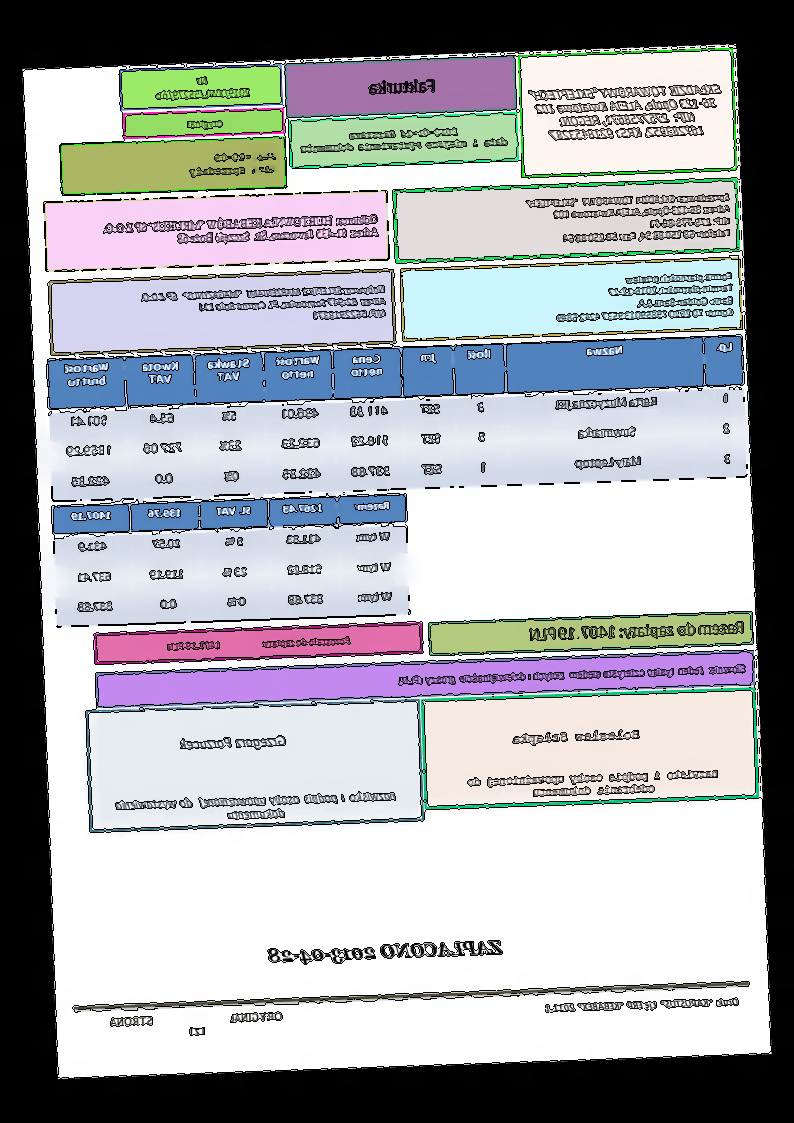Table: (47, 333, 749, 504), (50, 490, 412, 629)
TextBox: (525, 80, 725, 143), (523, 188, 733, 247), (138, 281, 389, 330), (113, 788, 399, 828), (100, 209, 382, 249), (554, 267, 737, 325), (396, 660, 749, 688), (465, 766, 722, 800), (265, 935, 507, 970), (298, 123, 510, 157), (528, 616, 748, 645), (106, 1007, 287, 1042), (543, 993, 741, 1016), (165, 632, 354, 655), (155, 70, 253, 104), (512, 724, 644, 749), (186, 149, 281, 180), (177, 731, 289, 752), (367, 75, 439, 97), (184, 117, 225, 132)
